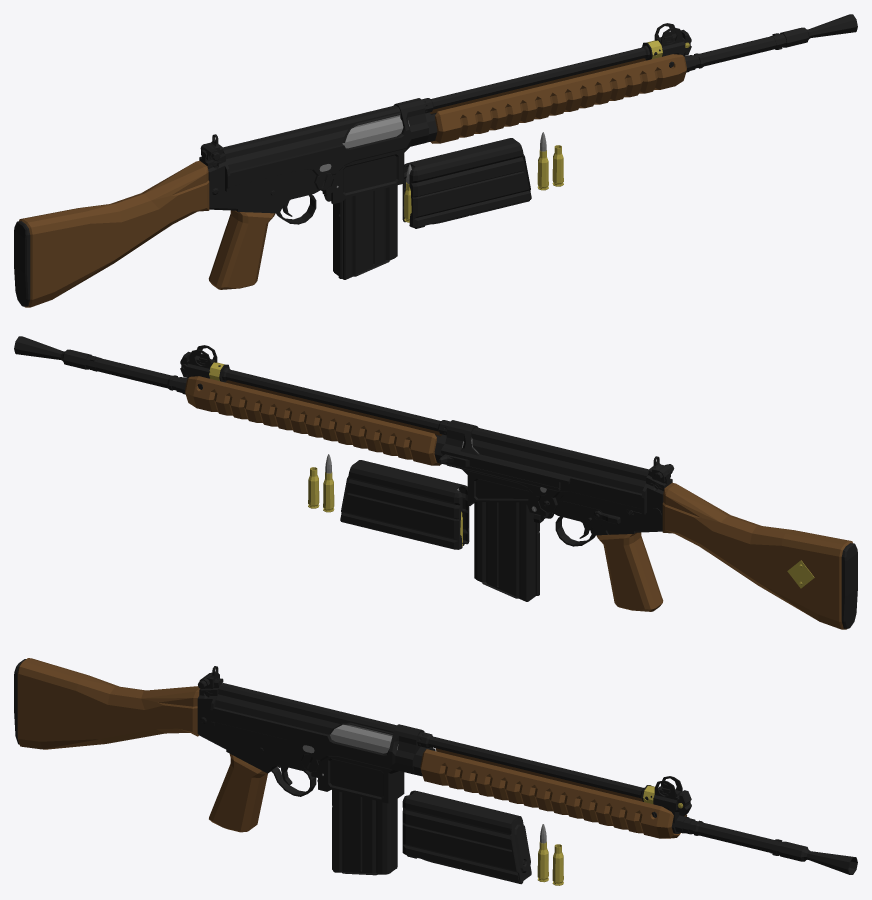
The model's file is low-poly_.280_fal.glb.
The picture shows the model from 3 angles, top to bottom: view 1: azimuth 30°, elevation 25°; view 2: azimuth 150°, elevation 25°; view 3: azimuth 330°, elevation 25°; orthographic projection.
Visible parts, largest first — view 1: 280fal stock_13, 280fal handguard_9, 280fal 20rnd mag_3, 280fal upper receiver_16, 280fal barrel_4, 280fal 20rnd empty_2, 280fal lower receiver_10, 280fal top cover_14, 280fal grip_8, 280fal bolt_5, 280fal flash hider_7; view 2: 280fal stock_13, 280fal handguard_9, 280fal 20rnd mag_3, 280fal upper receiver_16, 280fal 20rnd empty_2, 280fal barrel_4, 280fal top cover_14, 280fal lower receiver_10, 280fal grip_8, 280fal flash hider_7, 280fal charging handle_6; view 3: 280fal stock_13, 280fal handguard_9, 280fal 20rnd mag_3, 280fal upper receiver_16, 280fal barrel_4, 280fal 20rnd empty_2, 280fal lower receiver_10, 280fal top cover_14, 280fal grip_8, 280fal flash hider_7, 280fal bolt_5, 280brit_0.
Boxes of the visible parts, <box> form: 280fal stock_13: <box>14,160,209,307</box>; 280fal handguard_9: <box>430,54,686,143</box>; 280fal 20rnd mag_3: <box>402,138,531,228</box>; 280fal upper receiver_16: <box>229,98,428,203</box>; 280fal barrel_4: <box>422,23,786,142</box>; 280fal 20rnd empty_2: <box>333,185,397,279</box>; 280fal lower receiver_10: <box>199,134,320,224</box>; 280fal top cover_14: <box>222,105,400,171</box>; 280fal grip_8: <box>208,210,275,289</box>; 280fal bolt_5: <box>342,115,409,148</box>; 280fal flash hider_7: <box>780,14,857,47</box>; 280fal stock_13: <box>662,482,857,629</box>; 280fal handguard_9: <box>185,376,441,465</box>; 280fal 20rnd mag_3: <box>340,460,469,549</box>; 280fal upper receiver_16: <box>441,420,641,523</box>; 280fal 20rnd empty_2: <box>474,502,539,601</box>; 280fal barrel_4: <box>85,345,449,464</box>; 280fal top cover_14: <box>471,427,649,493</box>; 280fal lower receiver_10: <box>551,456,674,546</box>; 280fal grip_8: <box>596,532,663,611</box>; 280fal flash hider_7: <box>14,336,91,369</box>; 280fal charging handle_6: <box>439,454,560,487</box>; 280fal stock_13: <box>14,658,199,749</box>; 280fal handguard_9: <box>420,748,686,838</box>; 280fal 20rnd mag_3: <box>402,790,531,884</box>; 280fal upper receiver_16: <box>213,707,430,803</box>; 280fal barrel_4: <box>413,732,782,855</box>; 280fal 20rnd empty_2: <box>332,790,397,875</box>; 280fal lower receiver_10: <box>197,666,316,796</box>; 280fal top cover_14: <box>215,683,396,734</box>; 280fal grip_8: <box>209,754,267,832</box>; 280fal flash hider_7: <box>779,841,857,874</box>; 280fal bolt_5: <box>330,724,398,753</box>; 280brit_0: <box>537,824,548,882</box>.
Size of the model in its own units: 9.88 by 1.95 by 0.5568.
